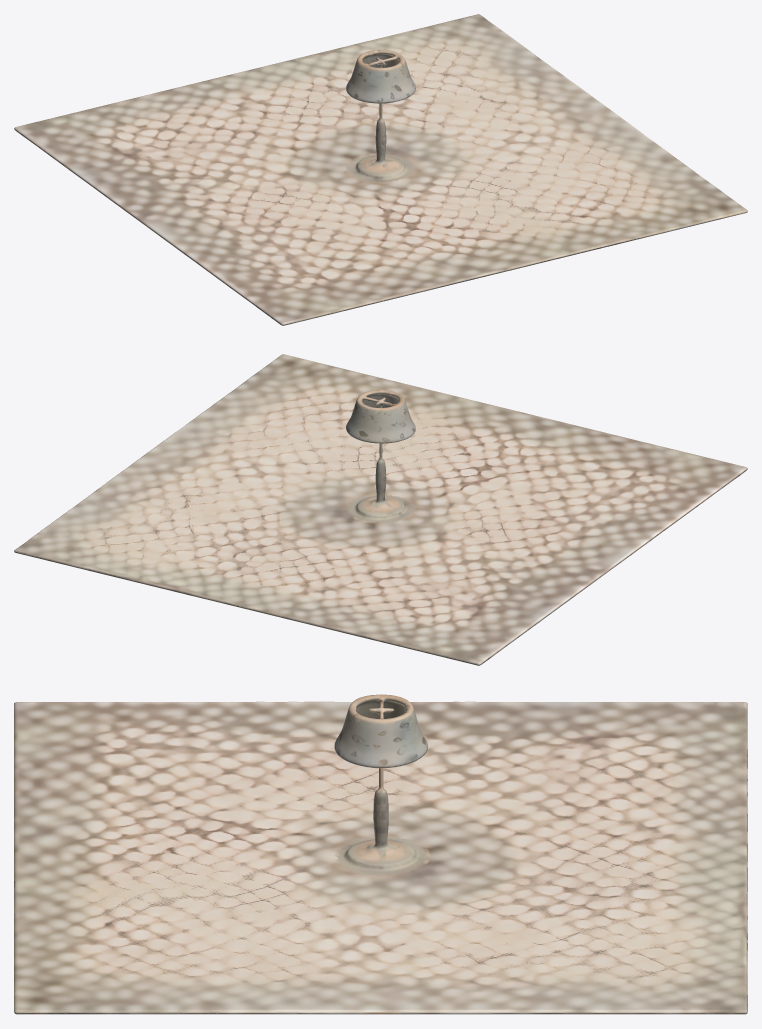
The model's file is floor-lamp-failed.glb.
3 renders of one model, top to bottom at view 1: azimuth 30°, elevation 25°; view 2: azimuth 150°, elevation 25°; view 3: azimuth 270°, elevation 25°, orthographic. The views are drawn at different scales.
Parts seen in each view (by area): view 1: textured; view 2: textured; view 3: textured.
Part boxes in pixels (x1=…): textured: x1=14, y1=14, x2=747, y2=325; textured: x1=14, y1=354, x2=747, y2=665; textured: x1=14, y1=694, x2=747, y2=1014.
Bounding box in the file's own units: 1.99 × 0.4597 × 1.99.
1 material, 1 textured.
